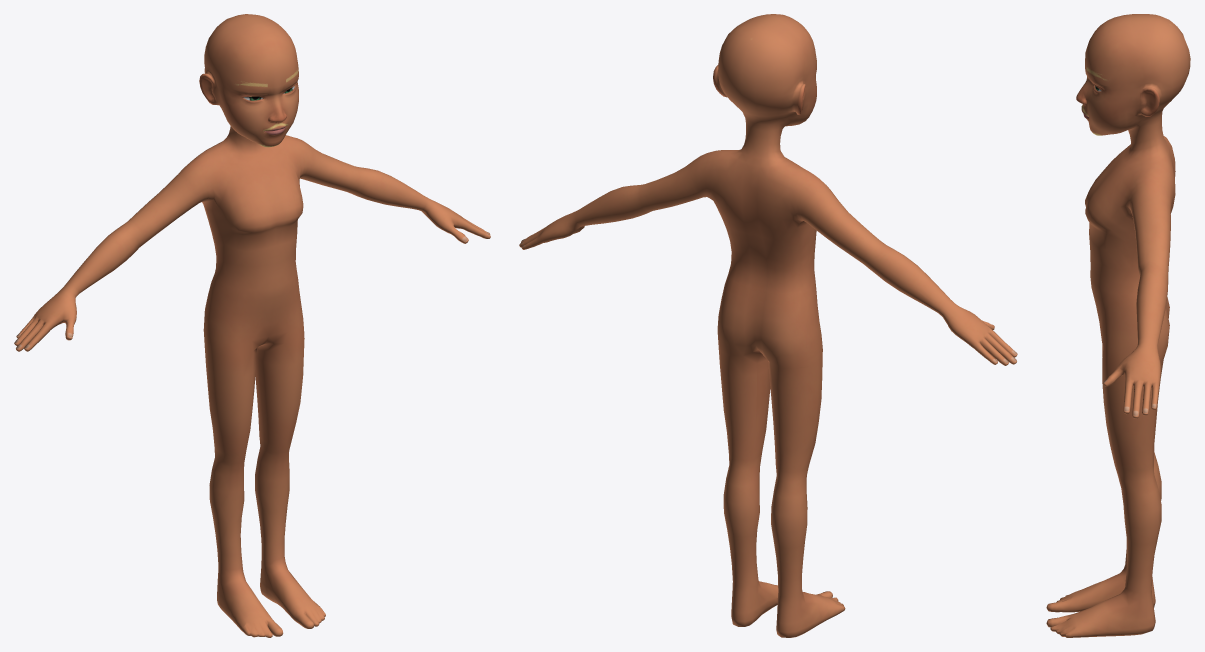
File: frame_0049.glb
The picture shows the model from 3 angles, left to right: view 1: azimuth 30°, elevation 25°; view 2: azimuth 150°, elevation 25°; view 3: azimuth 270°, elevation 25°; orthographic projection. The views are drawn at different scales.
Visible parts, largest first — view 1: frame_0049_head_geo; view 2: frame_0049_head_geo; view 3: frame_0049_head_geo.
Boxes of the visible parts, x1=… form: frame_0049_head_geo: x1=14, y1=14, x2=490, y2=637; frame_0049_head_geo: x1=519, y1=14, x2=1017, y2=637; frame_0049_head_geo: x1=1046, y1=14, x2=1190, y2=637.
Bounding box in the file's own units: 1.28 × 1.5 × 0.3253.
3 materials, 3 textured.
